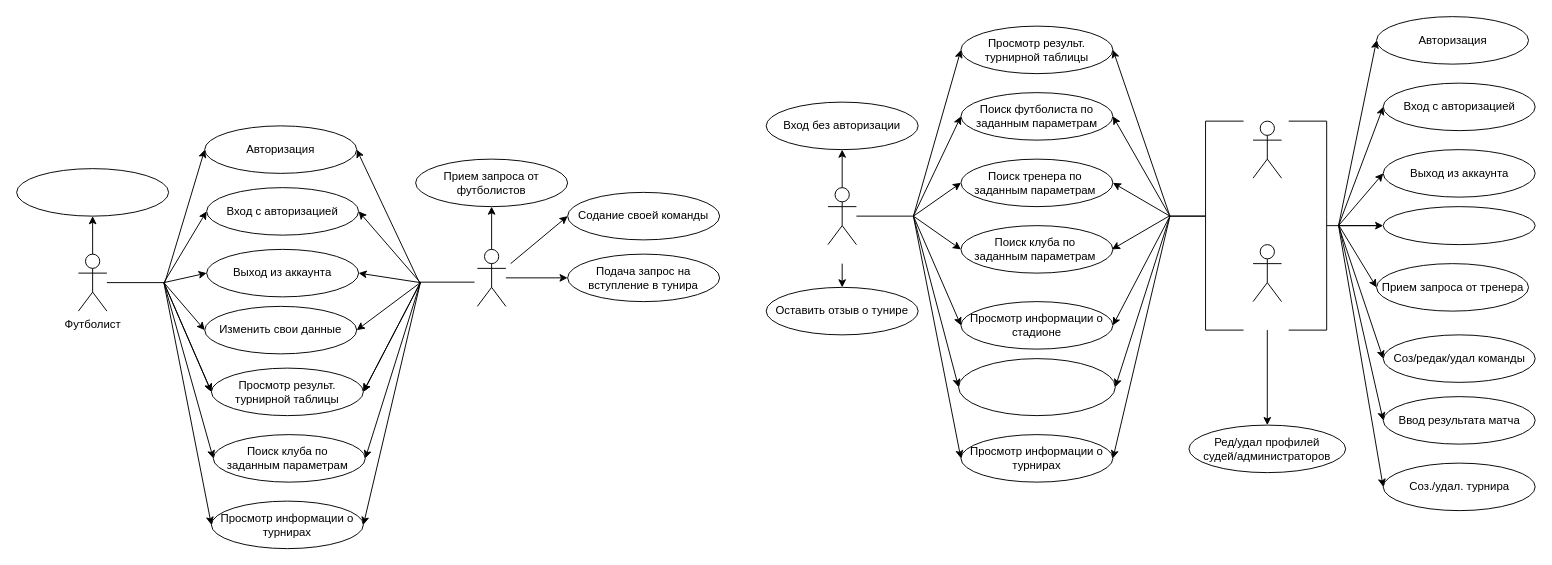
Image size: 1552x565. Some labels were removed from this diagram. The centre of each missing label's shape, as x and y in pixels:
"Администратор" belongs at [1267,273].
"Гость" belongs at [841,216].
"Подача запрос на вступление в команду" belongs at [92,192].
"Просмотр информации о стране, в которой проводится тунир" belongs at [1036,387].
"Создание расписания тунира" belongs at [1458,225].
"Судья" belongs at [1267,149].
"Тренер" belongs at [491,277].
